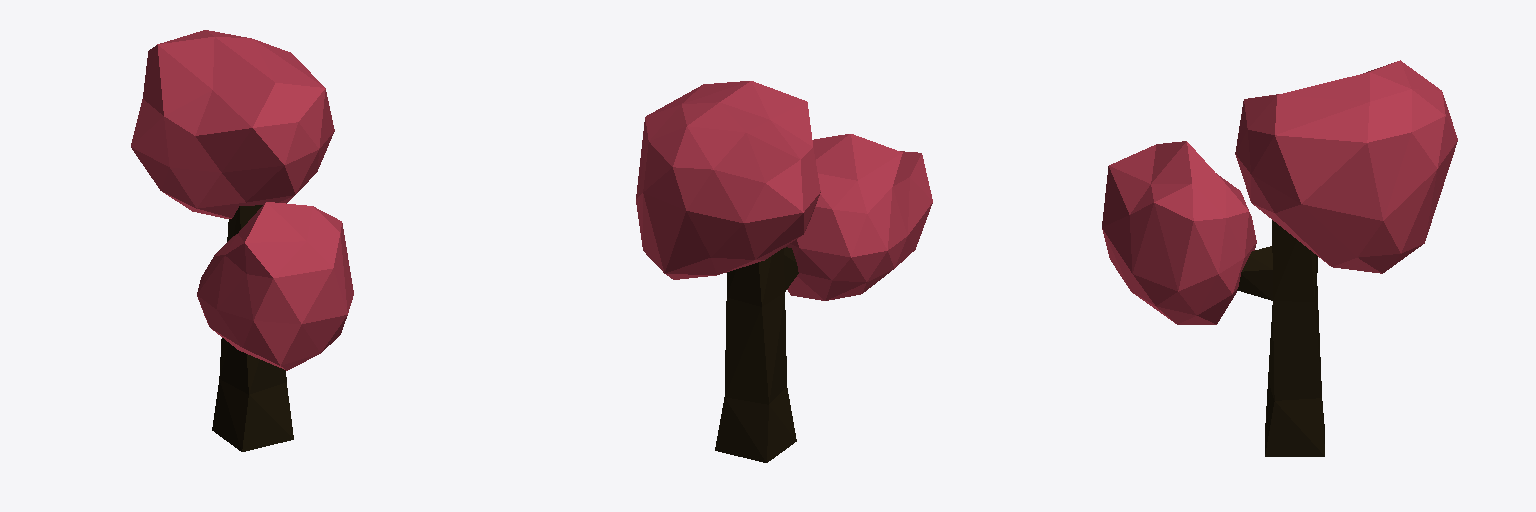
3 renders of one model, left to right at view 1: azimuth 30°, elevation 25°; view 2: azimuth 150°, elevation 25°; view 3: azimuth 270°, elevation 25°, orthographic.
Visible parts, largest first — view 1: Icosphere.002, Icosphere.001, Cube_Cube.002; view 2: Icosphere.002, Icosphere.001, Cube_Cube.002; view 3: Icosphere.002, Icosphere.001, Cube_Cube.002.
Boxes of the visible parts, x1,y1,x2,y2 form: Icosphere.002: [131, 30, 334, 218]; Icosphere.001: [197, 202, 353, 370]; Cube_Cube.002: [212, 205, 293, 451]; Icosphere.002: [636, 81, 820, 279]; Icosphere.001: [784, 134, 932, 300]; Cube_Cube.002: [715, 247, 798, 462]; Icosphere.002: [1235, 60, 1457, 273]; Icosphere.001: [1102, 141, 1256, 324]; Cube_Cube.002: [1237, 220, 1324, 456].
Bounding box in the file's own units: 2.75 × 5.45 × 4.74.
Materials: 1 (1 with a texture image).